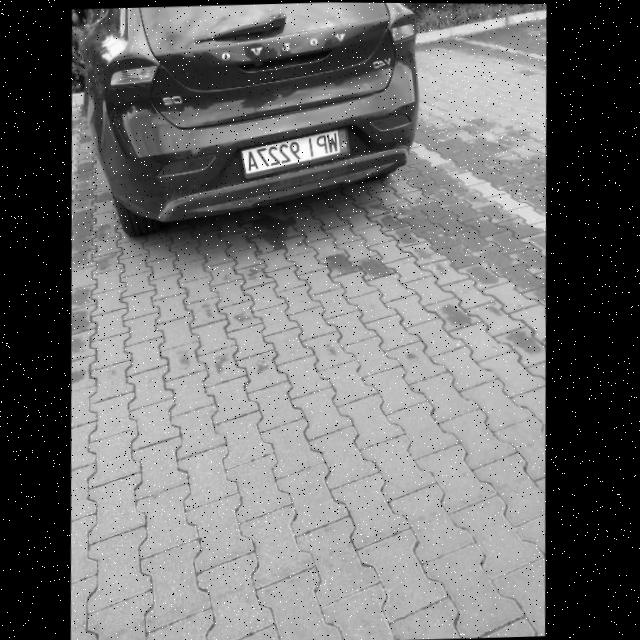license-plates: (242, 129, 347, 176)
